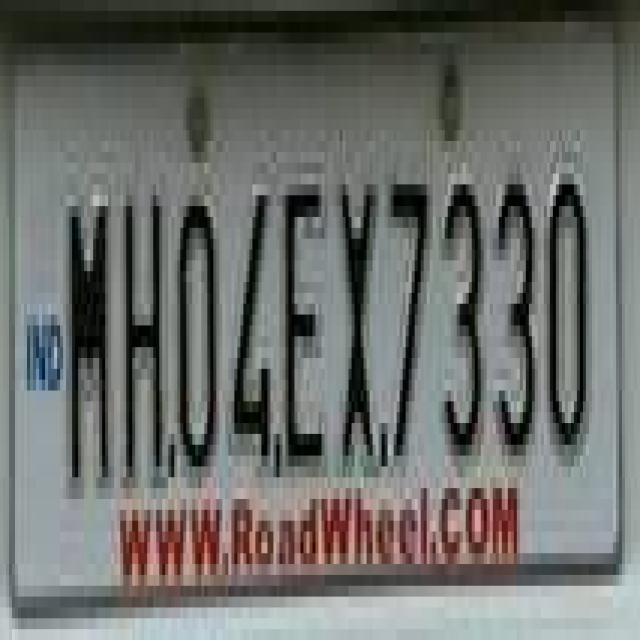license_plate: (24, 11, 640, 575)
